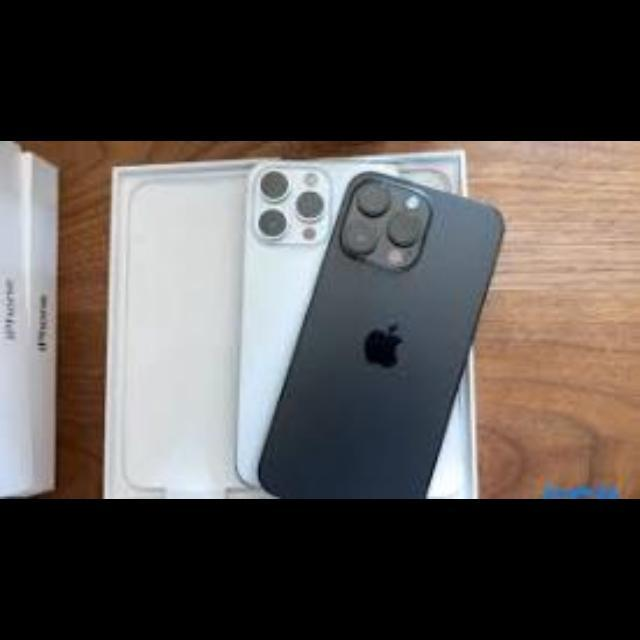Phone: (322, 170, 512, 498), (242, 161, 326, 493)
